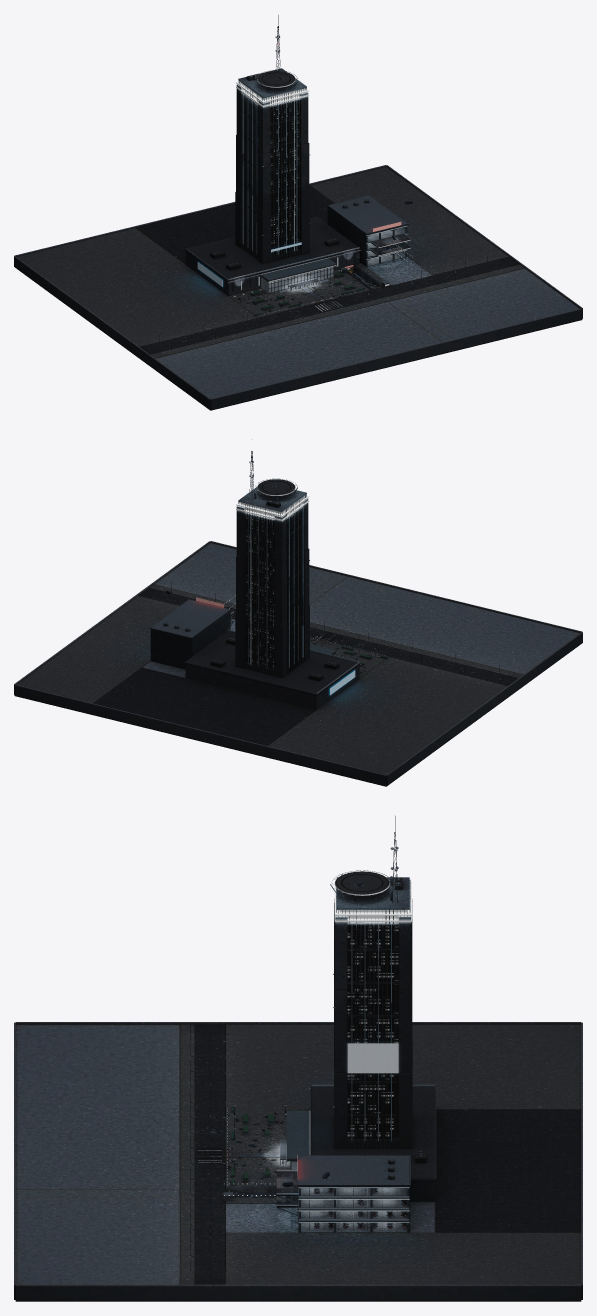
File: enforcement_hq.glb
3 renders of one model, top to bottom at view 1: azimuth 30°, elevation 25°; view 2: azimuth 150°, elevation 25°; view 3: azimuth 270°, elevation 25°, orthographic. The views are drawn at different scales.
Visible parts, largest first — view 1: site_ground, walls_ext, props_podium, props_dock, props_security, props_roof; view 2: site_ground, walls_ext, props_podium, props_dock, props_roof; view 3: site_ground, walls_ext, props_dock, props_podium, props_signs, props_roof, props_security, props_vehicles.
Boxes of the visible parts, box(x1,y1,x2,y2) form: site_ground: box(14, 165, 582, 410); walls_ext: box(235, 68, 309, 264); props_podium: box(184, 216, 360, 296); props_dock: box(327, 195, 412, 266); props_security: box(227, 154, 369, 316); props_roof: box(246, 14, 297, 92); site_ground: box(14, 541, 582, 786); walls_ext: box(235, 486, 309, 677); props_podium: box(184, 629, 360, 709); props_dock: box(150, 595, 235, 669); props_roof: box(249, 439, 297, 507); site_ground: box(14, 1022, 582, 1301); walls_ext: box(334, 877, 412, 1148); props_dock: box(224, 1155, 410, 1232); props_podium: box(286, 1084, 436, 1201); props_signs: box(297, 1043, 398, 1179); props_roof: box(330, 815, 402, 902); props_security: box(227, 974, 334, 1193); props_vehicles: box(210, 1128, 407, 1227).
Bounding box in the file's own units: 342 × 220 × 312.
Materials: 10 (10 with a texture image).
